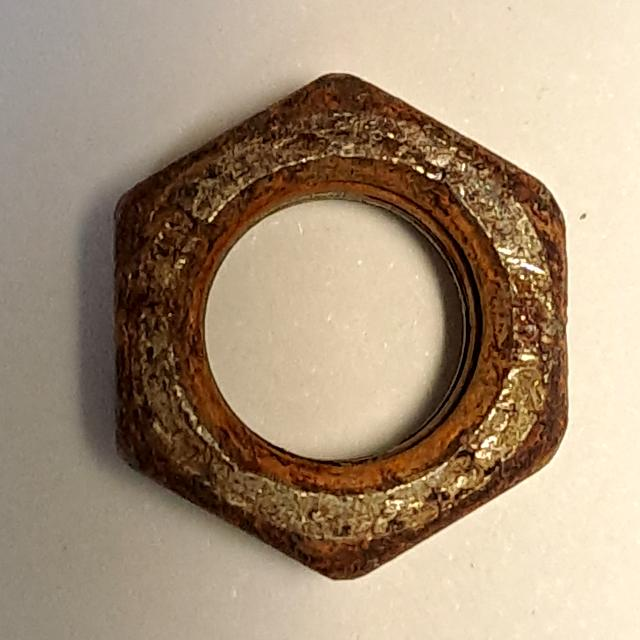Rust: (94, 53, 595, 599)
